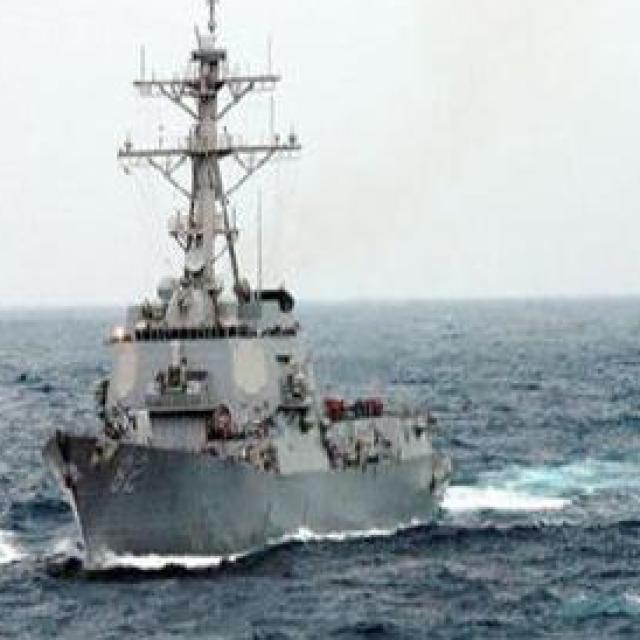navalvessels: (42, 0, 467, 572)
